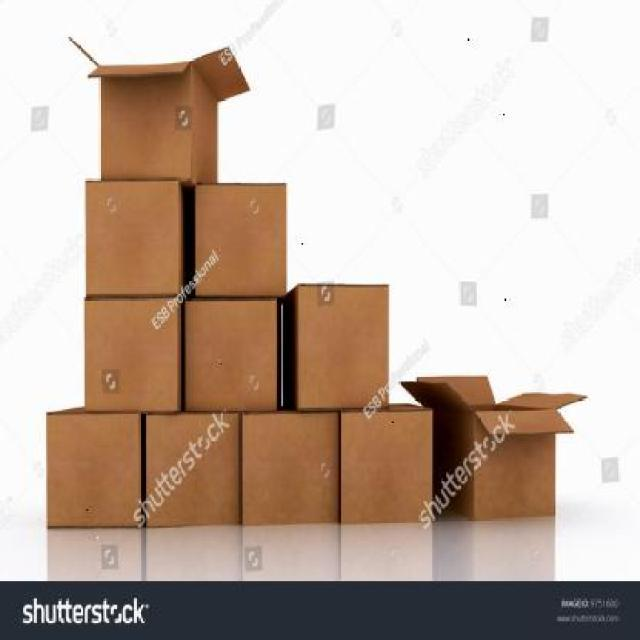BoxFace: (298, 284, 389, 410), (144, 414, 242, 530), (45, 412, 141, 530), (184, 296, 278, 416), (84, 179, 180, 296), (340, 408, 434, 526), (242, 411, 338, 526), (83, 298, 179, 412), (100, 66, 194, 180), (194, 184, 288, 298), (474, 410, 557, 519)
